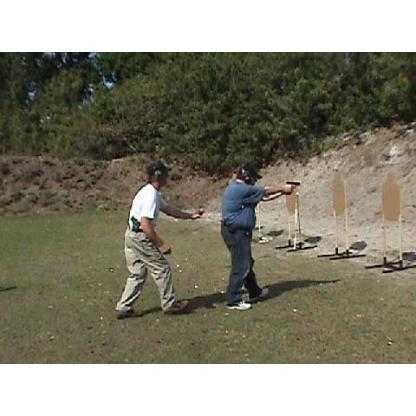gun: (282, 178, 301, 194)
